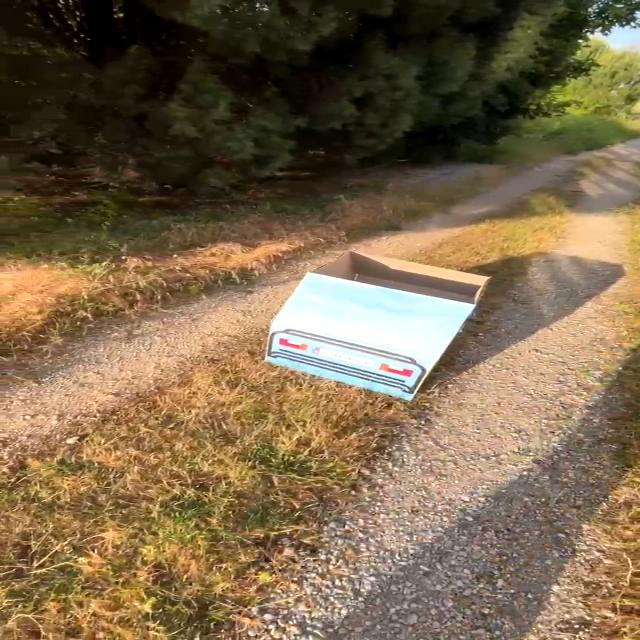blue_car: (231, 236, 525, 418)
